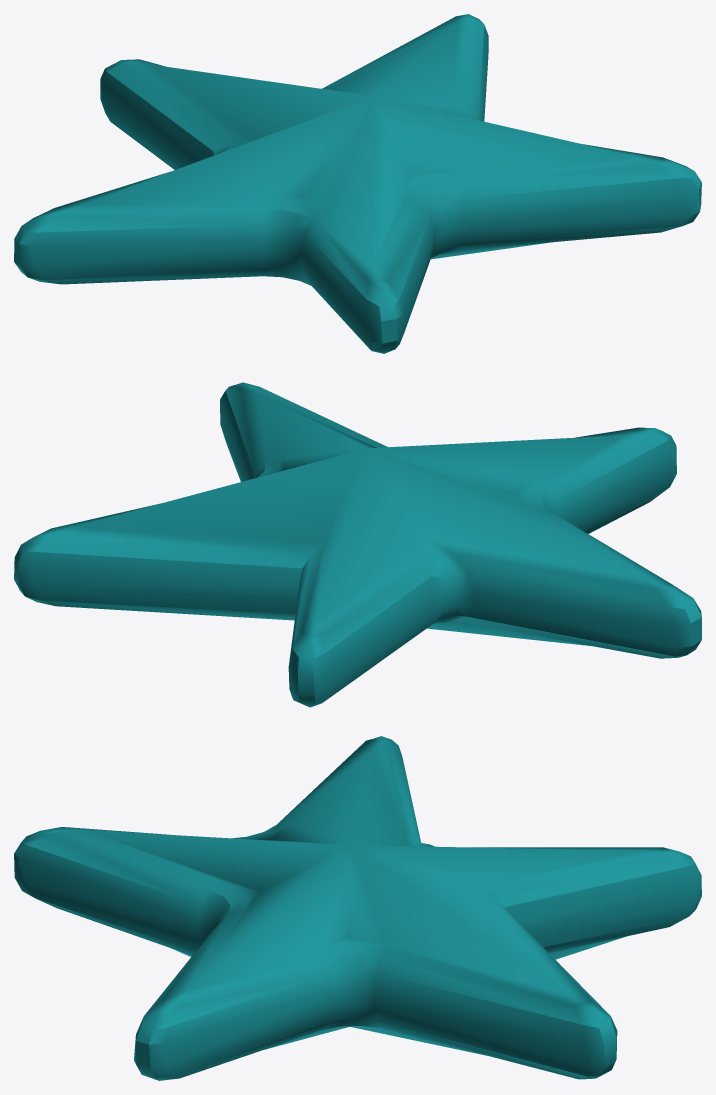
File: zvezda3.fbx
The picture shows the model from 3 angles, top to bottom: view 1: azimuth 30°, elevation 25°; view 2: azimuth 150°, elevation 25°; view 3: azimuth 270°, elevation 25°; orthographic projection. The views are drawn at different scales.
Visible parts, largest first — view 1: zvezda3; view 2: zvezda3; view 3: zvezda3.
Boxes of the visible parts, box(x1,y1,x2,y2) form: zvezda3: box(14, 14, 701, 353); zvezda3: box(14, 382, 701, 707); zvezda3: box(14, 736, 701, 1080).
Bounding box in the file's own units: 39.97 × 11.36 × 38.96.
